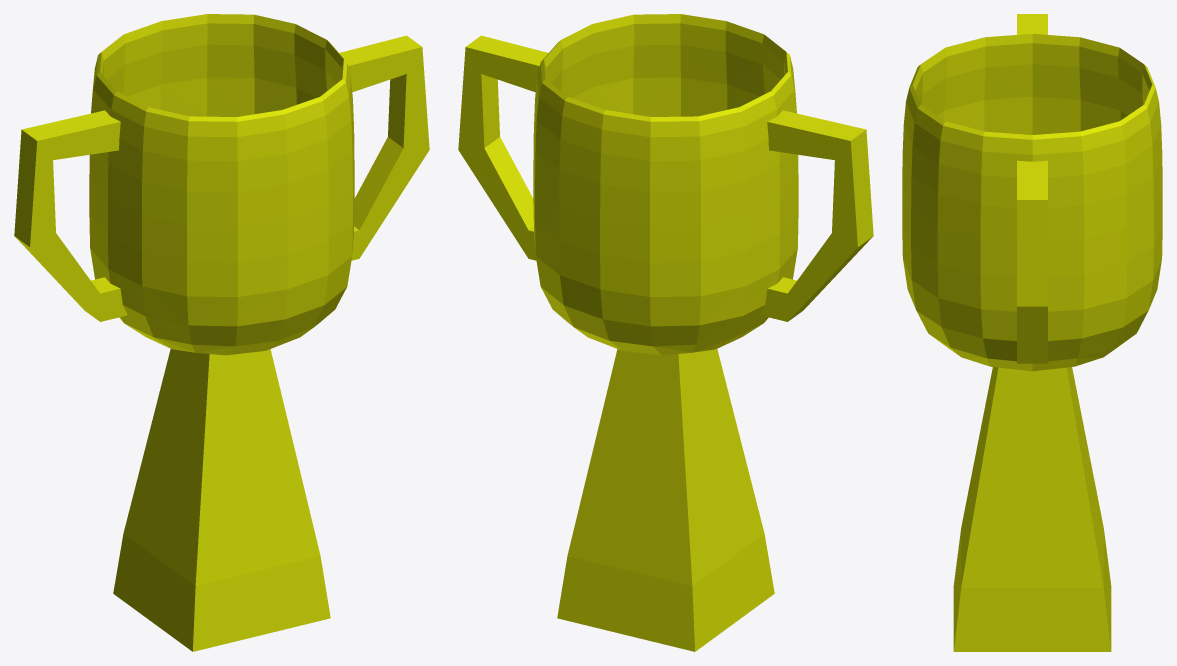
The model's file is kubochek.fbx.
3 views of the same model, side by side, from view 1: azimuth 30°, elevation 25°; view 2: azimuth 150°, elevation 25°; view 3: azimuth 270°, elevation 25° (orthographic).
Parts seen in each view (by area): view 1: Cube.001, Cube, Cube.002; view 2: Cube.001, Cube, Cube.002; view 3: Cube.001, Cube, Cube.002.
Part boxes in pixels (<box>): Cube.001: <box>89,14,354,355</box>; Cube: <box>113,349,330,651</box>; Cube.002: <box>14,35,429,321</box>; Cube.001: <box>533,14,798,355</box>; Cube: <box>557,349,774,651</box>; Cube.002: <box>458,35,873,321</box>; Cube.001: <box>902,33,1162,371</box>; Cube: <box>953,367,1111,651</box>; Cube.002: <box>1017,14,1047,363</box>.
Bounding box in the file's own units: 132 × 170 × 75.33.
